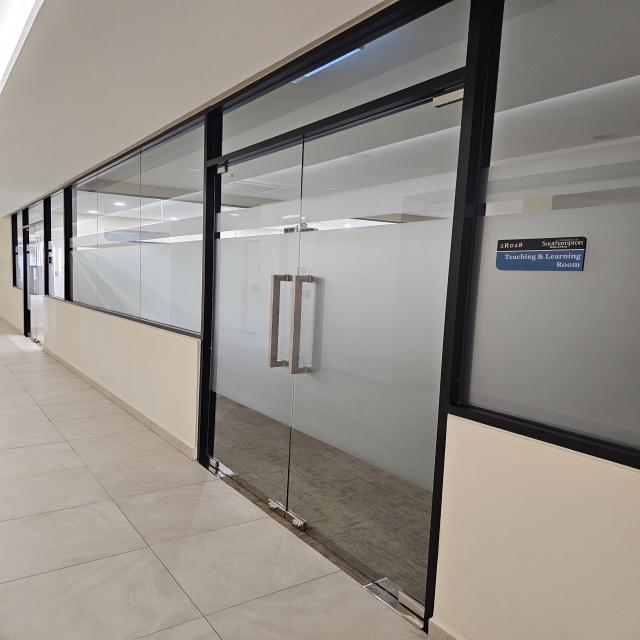door: (191, 47, 498, 630)
footpath: (2, 437, 157, 640)
